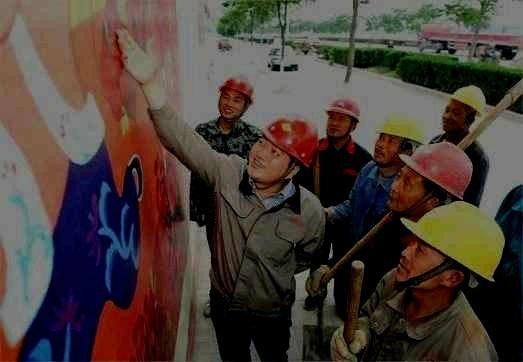helmet: (394, 200, 506, 291), (385, 141, 473, 214), (246, 112, 319, 185), (373, 115, 426, 165), (442, 86, 487, 131), (217, 74, 255, 120), (325, 96, 360, 138)
